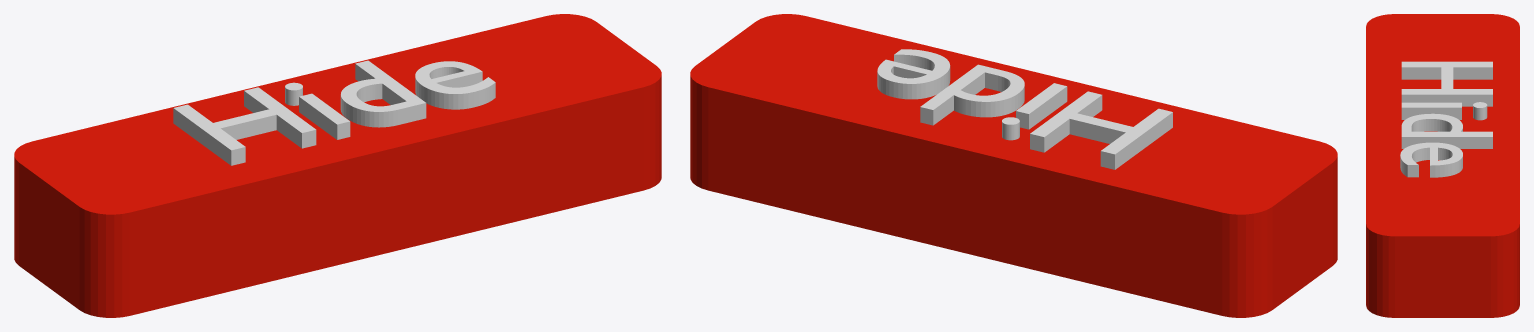
The model's file is hide_button.fbx.
3 views of the same model, side by side, from view 1: azimuth 30°, elevation 25°; view 2: azimuth 150°, elevation 25°; view 3: azimuth 270°, elevation 25° (orthographic). The views are drawn at different scales.
Visible parts, largest first — view 1: Cube.002; view 2: Cube.002; view 3: Cube.002.
Boxes of the visible parts, x1,y1,x2,y2 form: Cube.002: (14, 14, 661, 317); Cube.002: (690, 14, 1337, 317); Cube.002: (1366, 14, 1519, 317).
Size of the model in its own units: 112 by 22.13 by 32.85.
